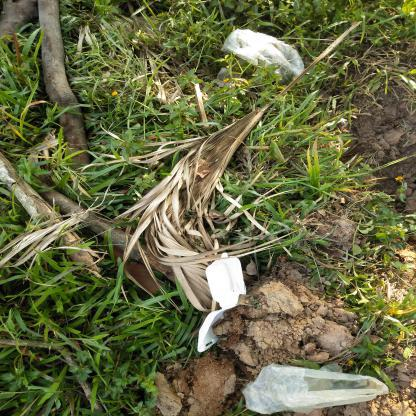kopuk: (198, 253, 248, 355)
plastik: (243, 364, 392, 416), (222, 30, 306, 87)
